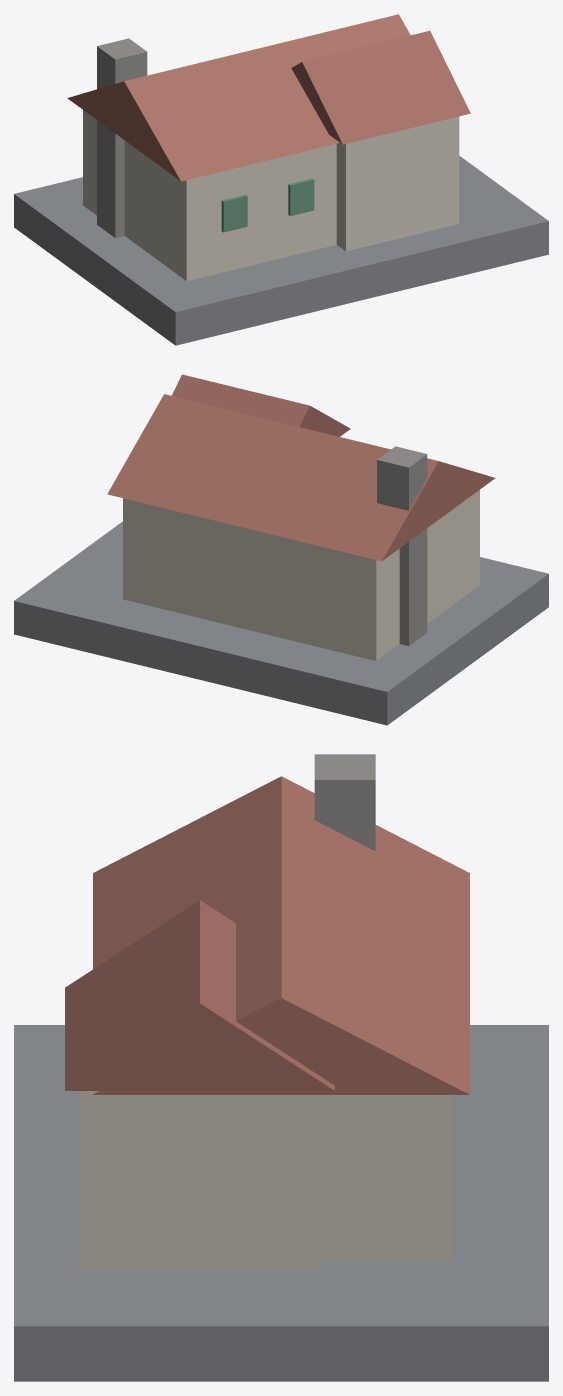
File: lm_124_biet_thu_phap_co_le_hong_phong_pasteur_stone_chimney_normandy_villa.glb
3 renders of one model, top to bottom at view 1: azimuth 30°, elevation 25°; view 2: azimuth 150°, elevation 25°; view 3: azimuth 270°, elevation 25°, orthographic. The views are drawn at different scales.
Parts seen in each view (by area): view 1: lm_124; view 2: lm_124; view 3: lm_124.
Boxes of the visible parts, <box> form: lm_124: <box>14,14,548,345</box>; lm_124: <box>14,374,548,725</box>; lm_124: <box>14,754,548,1381</box>.
Bounding box in the file's own units: 28 × 15.2 × 21.
